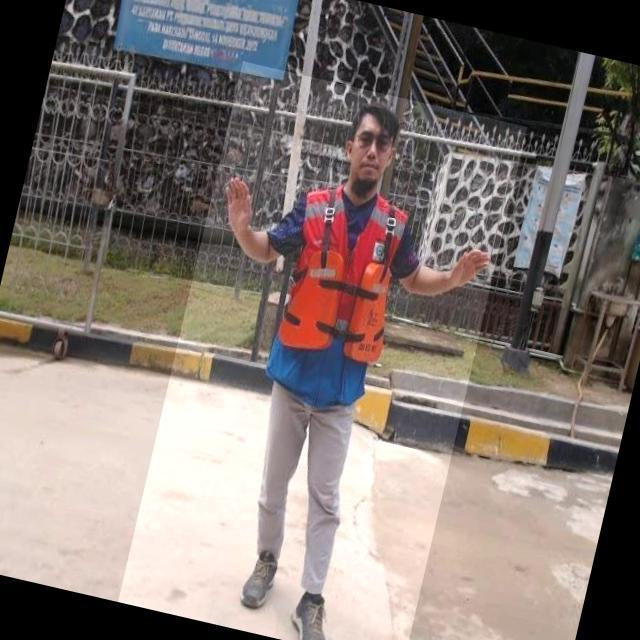Person: (208, 93, 508, 640)
Safety Boot: (281, 573, 346, 640), (232, 540, 286, 619)
Safety Vest: (262, 179, 417, 414)
bare-arms: (223, 170, 262, 247), (448, 239, 498, 296)
no-helmet: (348, 102, 403, 146)
